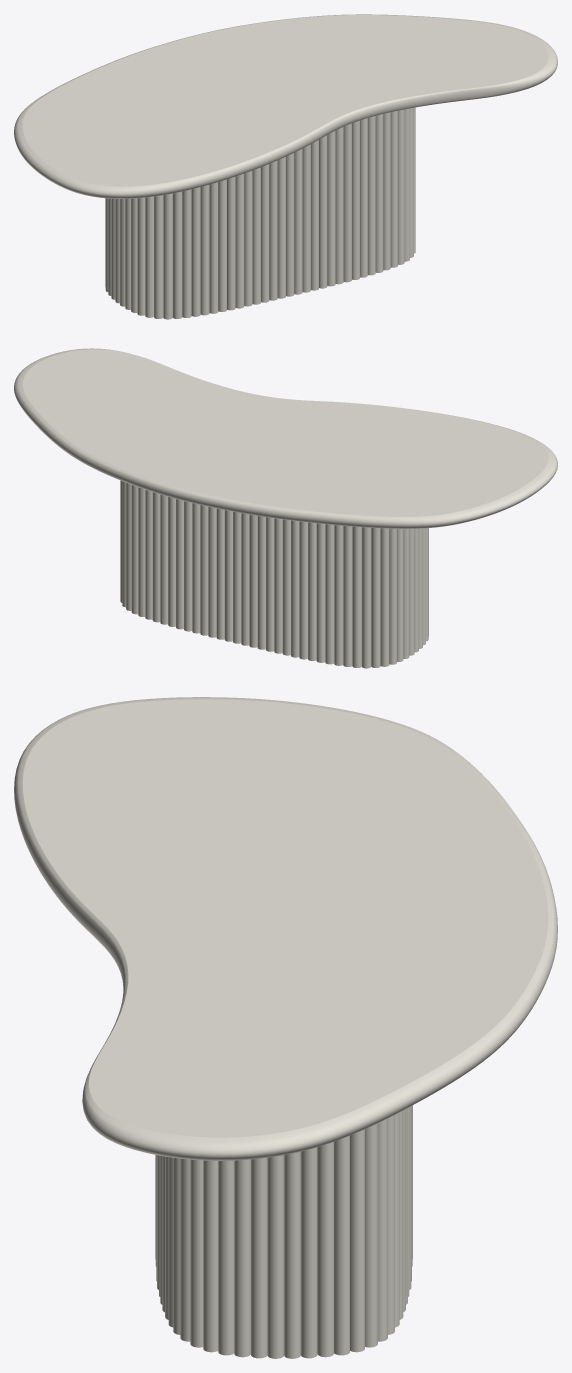
The model's file is pale_leaf1_round_newtable.glb.
3 views of the same model, one above another, from view 1: azimuth 30°, elevation 25°; view 2: azimuth 150°, elevation 25°; view 3: azimuth 270°, elevation 25° (orthographic). The views are drawn at different scales.
Visible parts, largest first — view 1: round_leaf1, newtable; view 2: round_leaf1, newtable; view 3: round_leaf1, newtable.
Boxes of the visible parts, left/top/right/bottom form: round_leaf1: left=14, top=14, right=557, bottom=198; newtable: left=105, top=107, right=415, bottom=319; round_leaf1: left=14, top=348, right=557, bottom=528; newtable: left=120, top=480, right=428, bottom=668; round_leaf1: left=14, top=697, right=557, bottom=1160; newtable: left=155, top=1105, right=412, bottom=1358.
Bounding box in the file's own units: 7.5 × 2.51 × 3.8.
2 materials, 2 textured.
